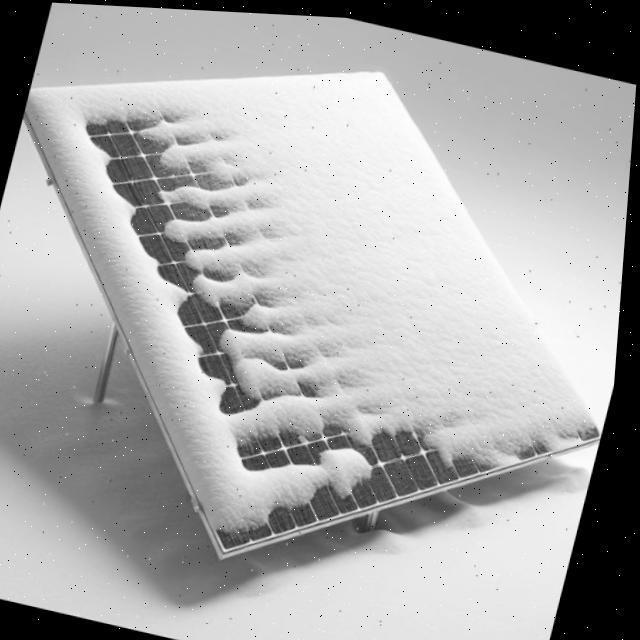Anomaly Solar Panel: (6, 6, 607, 637)
Snow: (9, 6, 604, 626)
